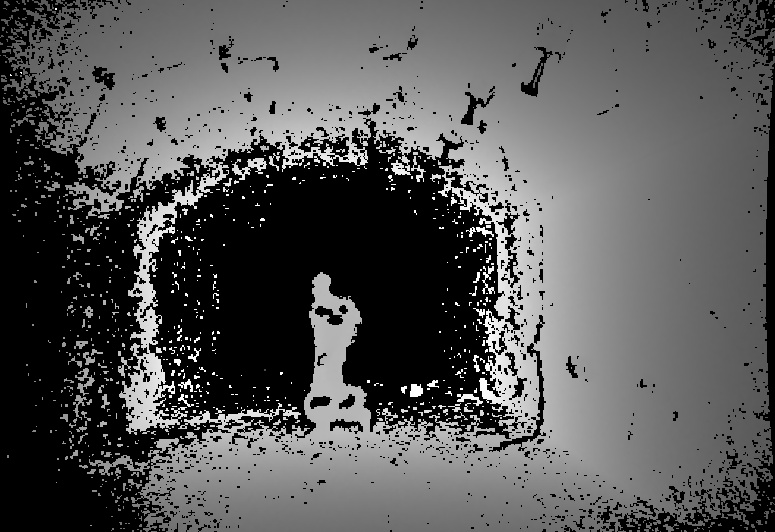person: (303, 270, 373, 437)
